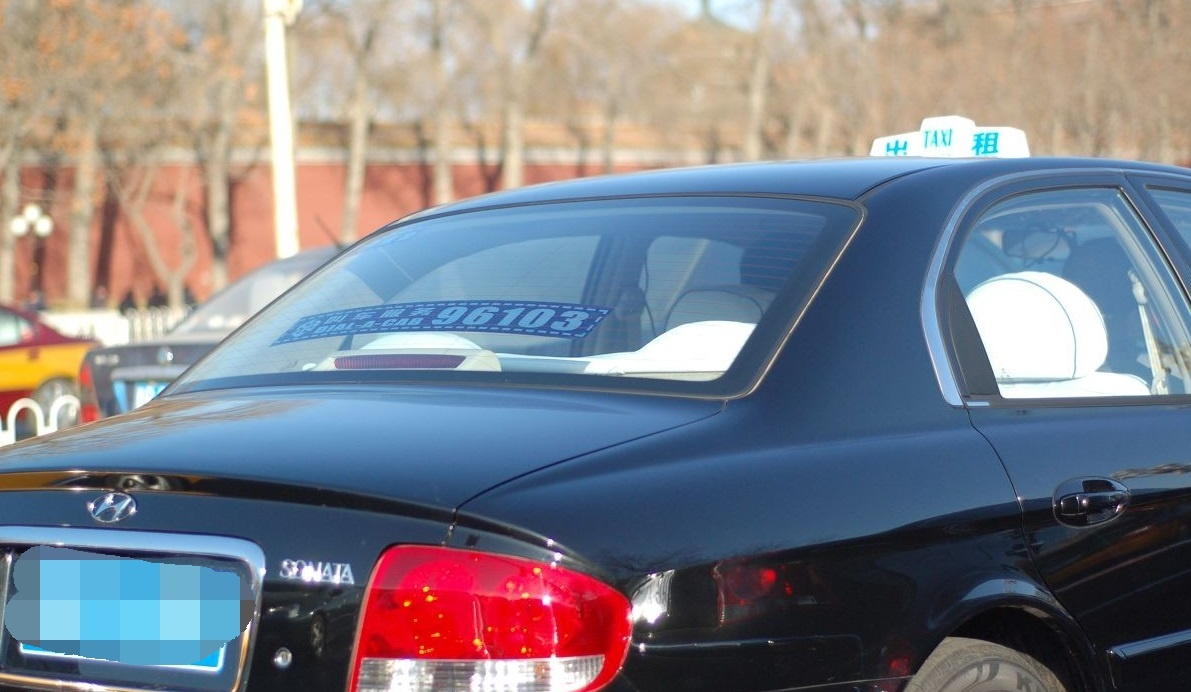taxi: (6, 118, 1182, 692)
